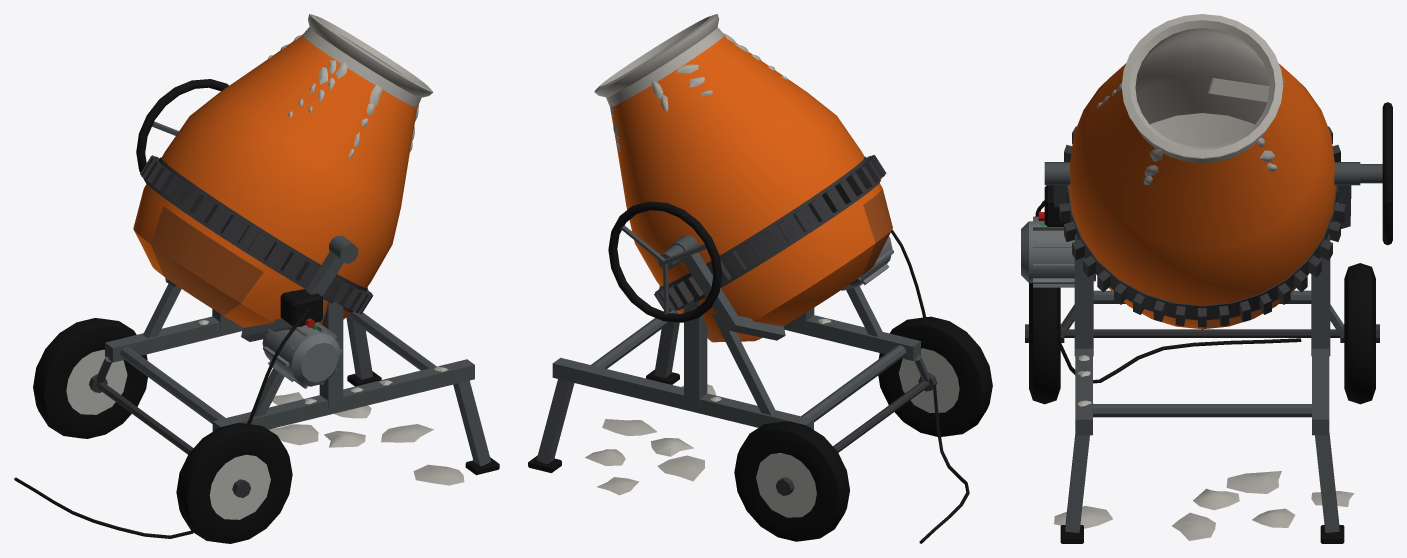
Rendered from cement_mixer.glb.
The picture shows the model from 3 angles, left to right: view 1: azimuth 30°, elevation 25°; view 2: azimuth 150°, elevation 25°; view 3: azimuth 270°, elevation 25°; orthographic projection. The views are drawn at different scales.
Visible parts, largest first — view 1: teil6, teil0, teil2, teil5, teil3, teil8, teil4, teil9, teil7, teil11, teil16, teil18 (+3 smaller); view 2: teil6, teil0, teil2, teil3, teil4, teil8, teil7, teil9, teil16, teil5, teil17, teil18 (+1 smaller); view 3: teil6, teil7, teil0, teil2, teil4, teil8, teil9, teil11, teil16, teil18, teil10, teil12 (+3 smaller).
Part boxes in pixels (box(x1,y1,x2,y2)): teil6: box(133, 35, 417, 327); teil0: box(96, 235, 491, 466); teil2: box(33, 318, 292, 543); teil5: box(151, 206, 263, 315); teil3: box(66, 350, 270, 519); teil8: box(199, 35, 464, 485); teil4: box(89, 157, 367, 497); teil9: box(140, 155, 373, 313); teil7: box(302, 14, 433, 107); teil11: box(262, 325, 340, 386); teil16: box(136, 79, 229, 183); teil18: box(14, 308, 310, 538); teil6: box(610, 35, 882, 338); teil0: box(536, 234, 929, 464); teil2: box(734, 316, 992, 541); teil3: box(756, 348, 959, 517); teil4: box(659, 156, 937, 495); teil8: box(585, 32, 830, 495); teil7: box(594, 14, 724, 107); teil9: box(654, 155, 886, 311); teil16: box(608, 201, 722, 322); teil5: box(705, 188, 892, 342); teil17: box(621, 225, 706, 314); teil18: box(891, 229, 969, 543); teil6: box(1068, 63, 1336, 329); teil7: box(1121, 14, 1283, 163); teil0: box(1044, 162, 1360, 532); teil2: box(1029, 263, 1375, 404); teil4: box(1025, 185, 1379, 342); teil8: box(1054, 76, 1354, 540); teil9: box(1059, 126, 1345, 327); teil11: box(1021, 221, 1095, 282); teil16: box(1382, 102, 1392, 245); teil18: box(1035, 200, 1301, 383); teil10: box(1208, 78, 1269, 101); teil12: box(1033, 216, 1074, 287).
Size of the model in its own units: 1.21 by 1.33 by 0.943.
